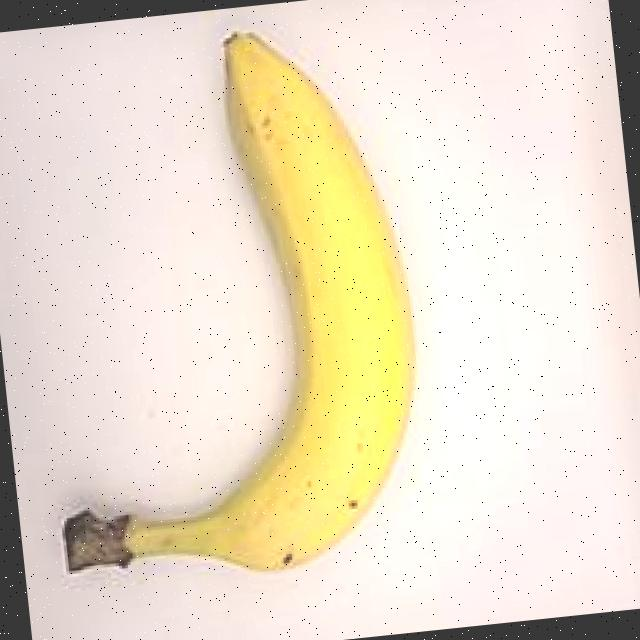Ripe: (14, 14, 447, 628)
